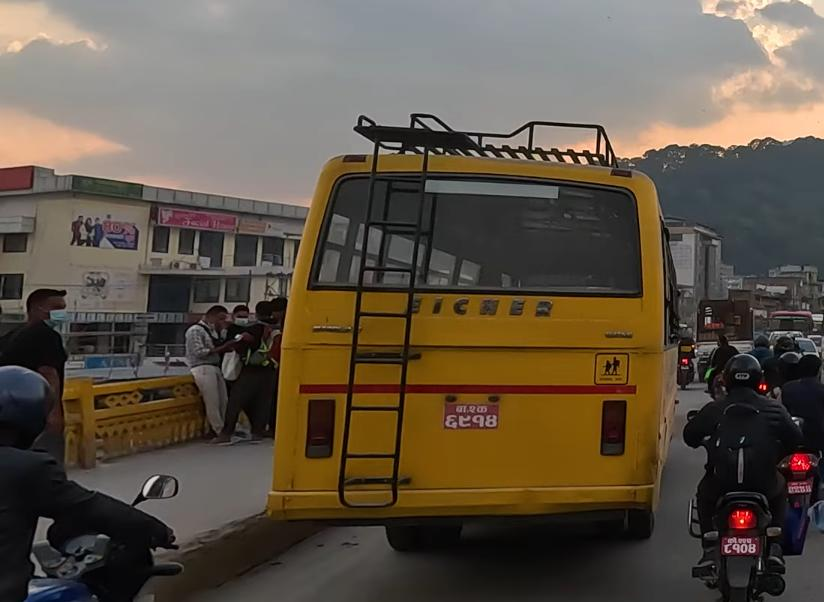bike: (686, 439, 787, 602)
school_bus: (257, 108, 689, 545)
